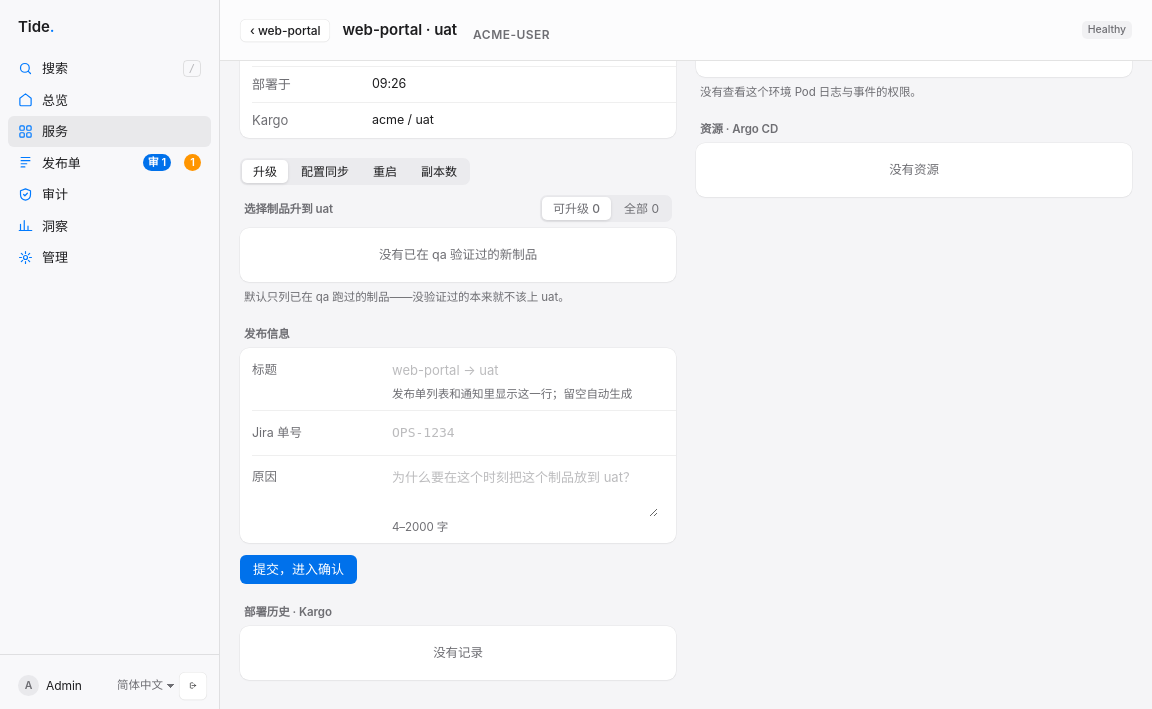
it: promote form › requires an artifact, a Jira ticket and a reason, focusing the artifact list first
(page scrolled)
Click the button "提交，进入确认": (298, 570) [240,555,357,584]
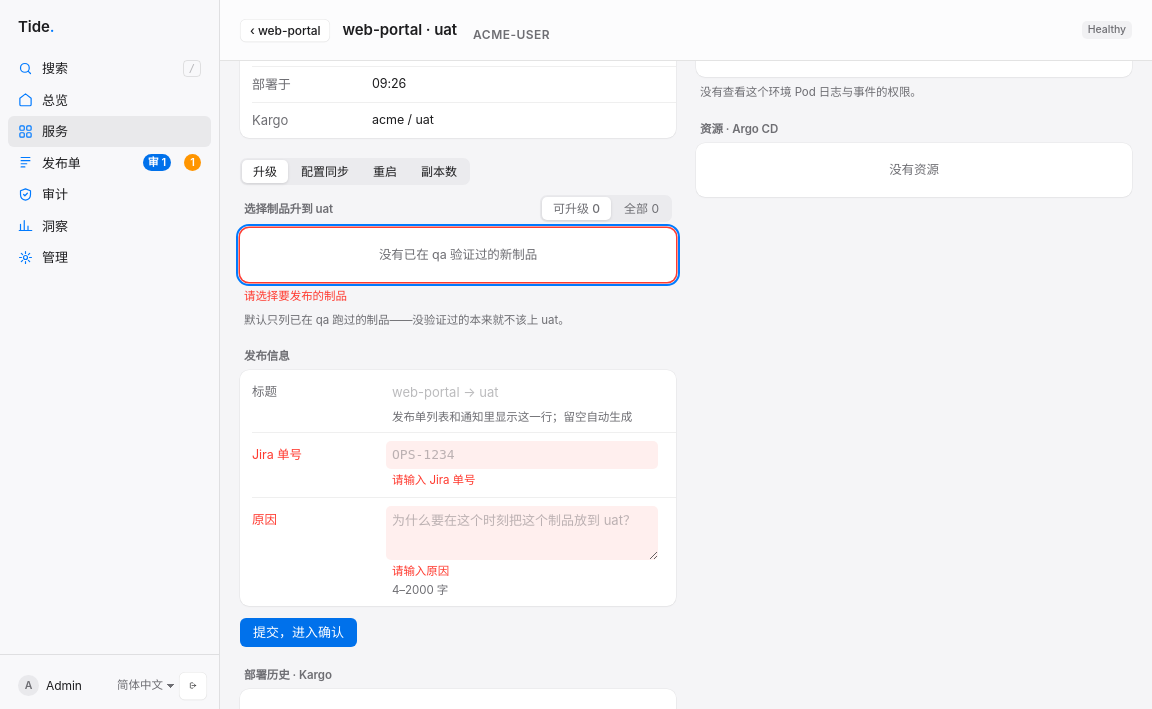
Expected: the text "请选择要发布的制品" is shown, [244,289,347,303]
Expected: the text "请输入 Jira 单号" is shown, [392,473,475,487]
Expected: the text "请输入原因" is shown, [392,564,449,578]
In the field labelled "Jira 单号": (522, 455) [386,441,658,469], type "ops-12"
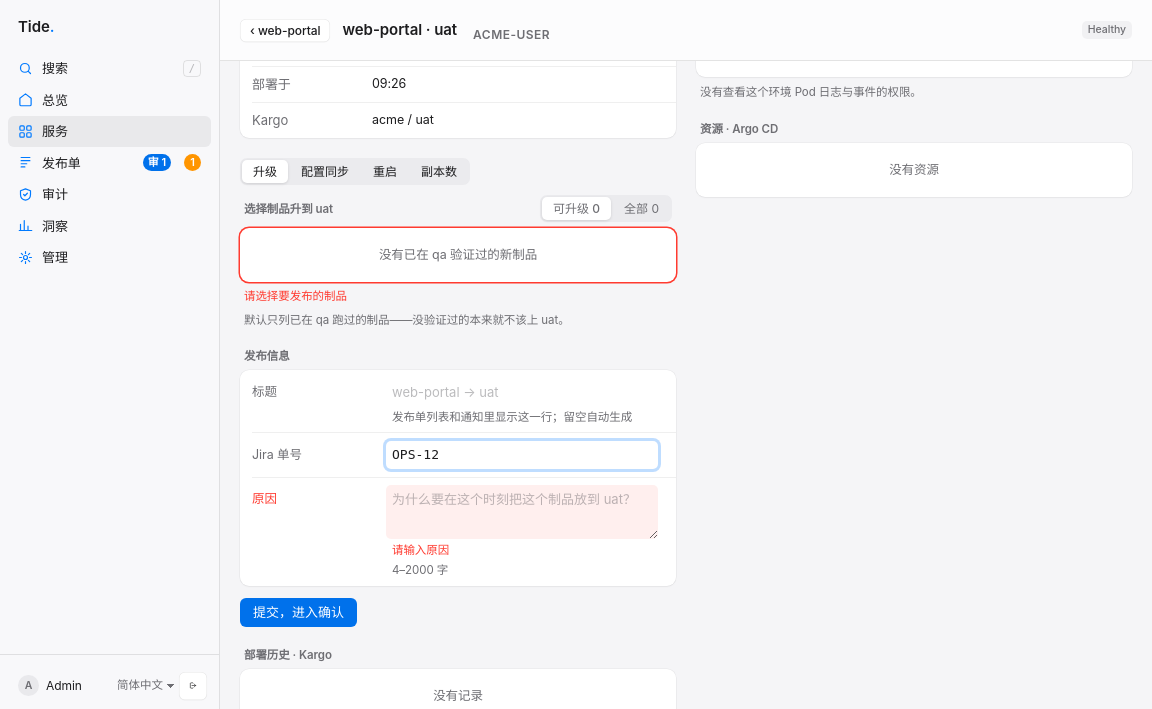
Expected: the text "请输入 Jira 单号" is gone
